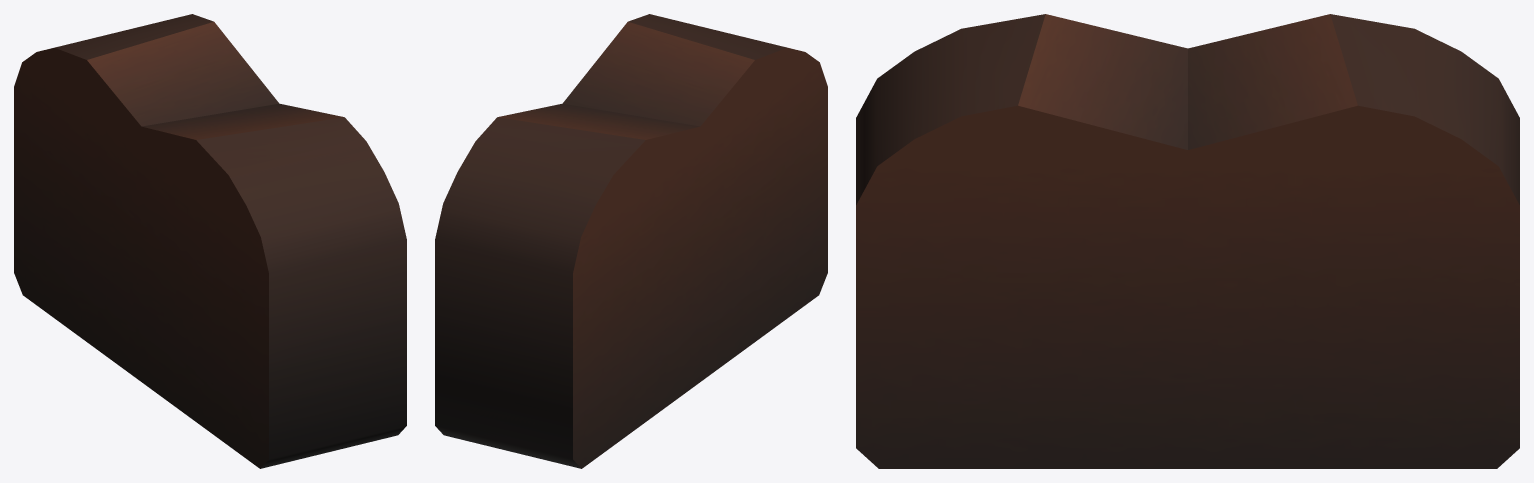
File: m_LoafCake02_Slice03.fbx
3 renders of one model, left to right at view 1: azimuth 30°, elevation 25°; view 2: azimuth 150°, elevation 25°; view 3: azimuth 270°, elevation 25°, orthographic. The views are drawn at different scales.
Parts seen in each view (by area): view 1: m_LoafCake02_Slice03; view 2: m_LoafCake02_Slice03; view 3: m_LoafCake02_Slice03.
Part boxes in pixels (<box>): m_LoafCake02_Slice03: <box>14,14,406,468</box>; m_LoafCake02_Slice03: <box>435,14,827,468</box>; m_LoafCake02_Slice03: <box>856,14,1519,468</box>.
Size of the model in its own units: 5 by 9.77 by 16.
